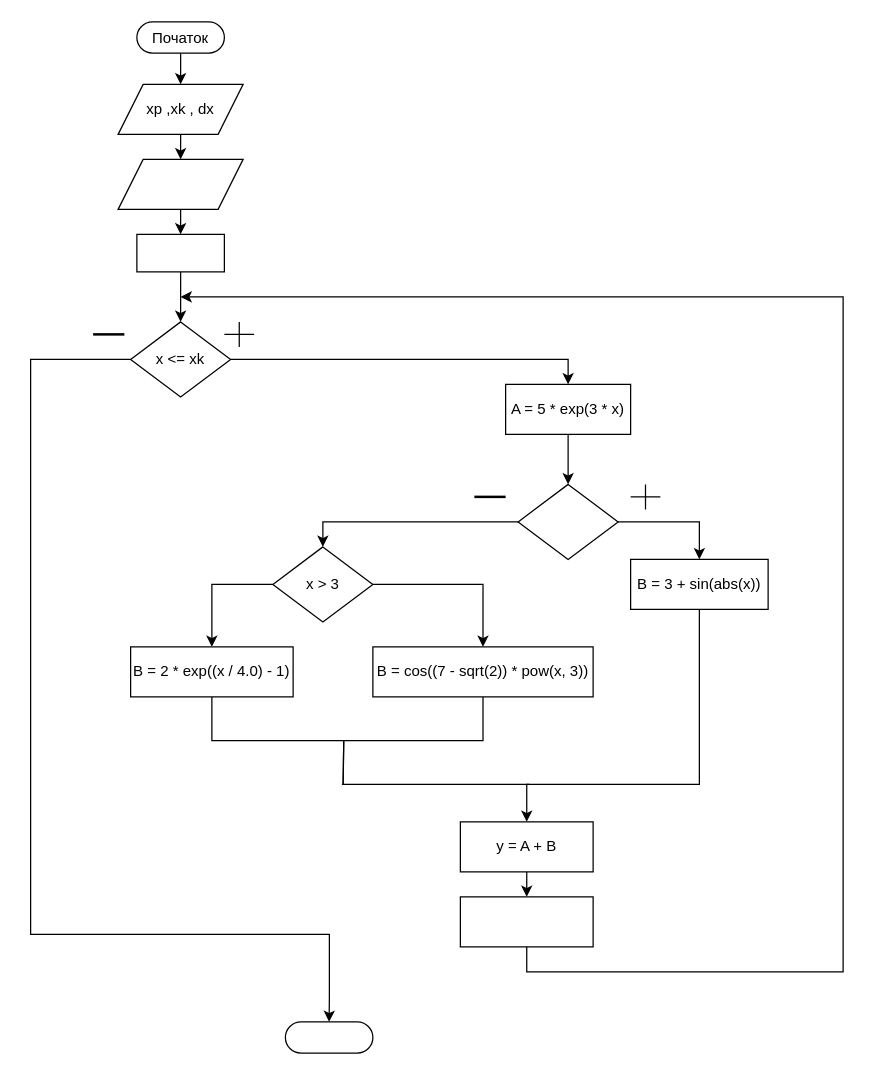
This 875x1075 diagram has some shape labels left out. The shapes that lost their labels are listed below. From the top down, each one's centre as x and y in pixels, then its label:
the point at 180,183: A, B, y
the point at 180,252: x = xp
the point at 567,521: x <= -1
the point at 526,921: x += dx
the point at 328,1037: конец
